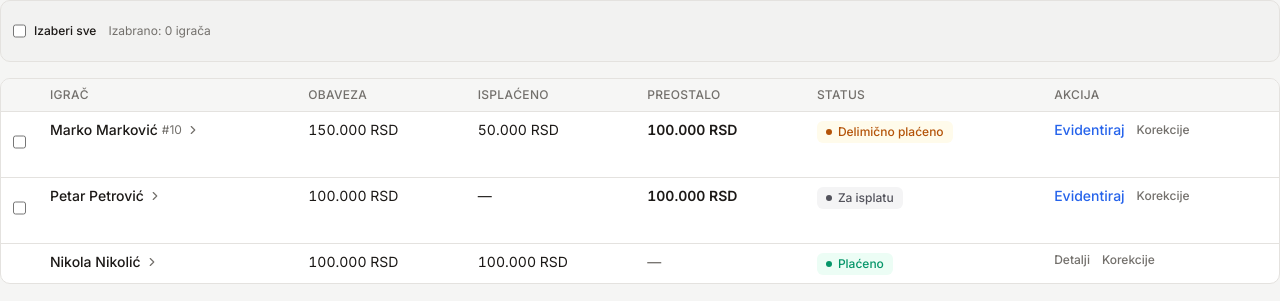
it: MonthPayments table › select all picks only players with something left to pay
Click the checkbox labelled "Izaberi sve" at (20, 31), box [13,9,26,53]
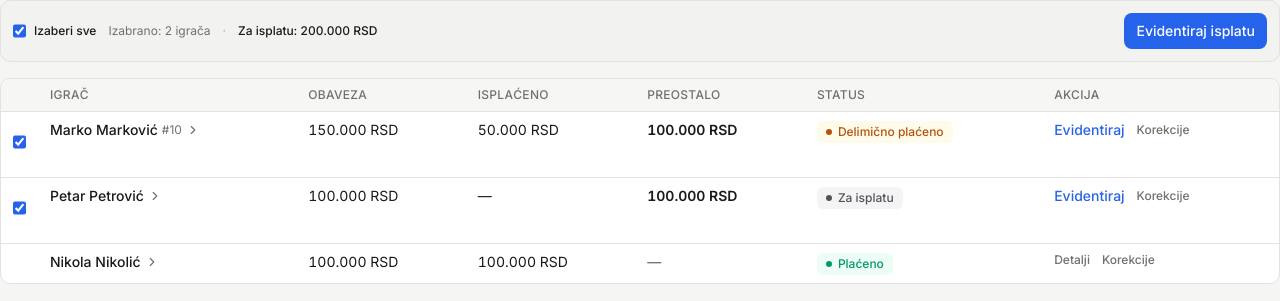
Expected: the text "Izabrano: 2 igrača" is shown, [108,23,210,39]
Expected: the text "Za isplatu: 200.000 RSD" is shown, [238,23,378,39]
